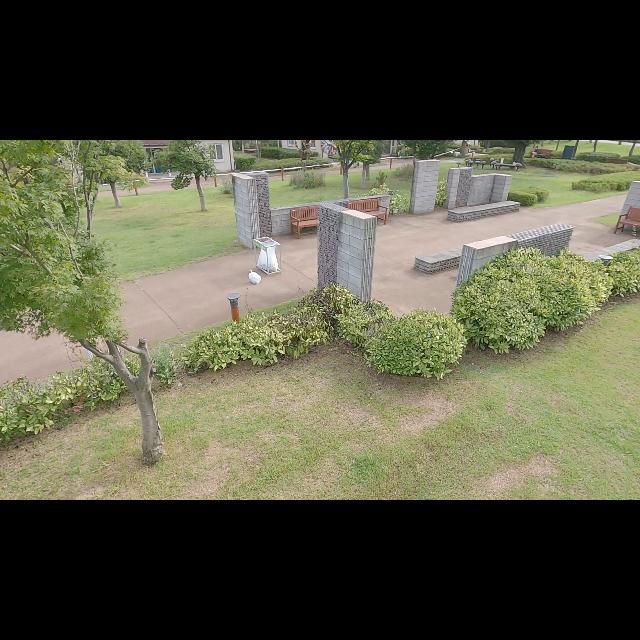trash: (246, 268, 264, 286)
